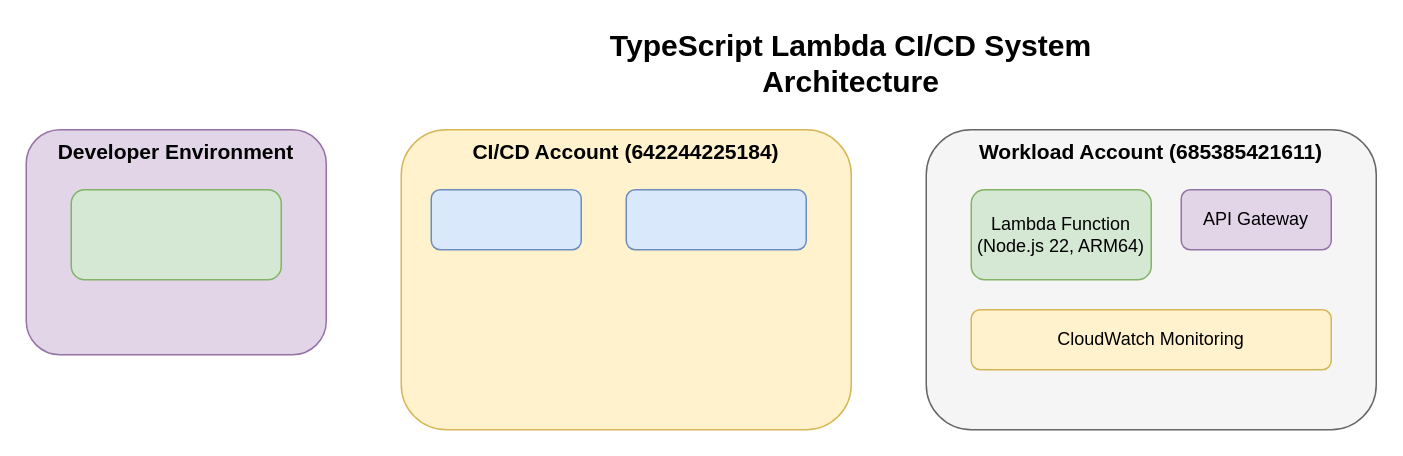
The diagram is 1403 pixels wide and 456 high, and some of its shapes have lost their labels. The centre of each missing label's shape, as x and y in pixels:
CodeBuild Projects: (715,219)
CodePipeline: (505,219)
GitHub Repository: (175,234)
